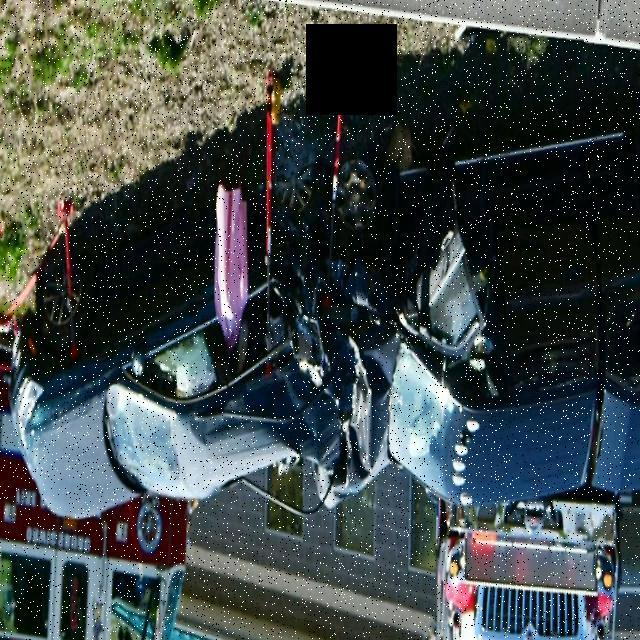severe: (8, 73, 637, 523)
